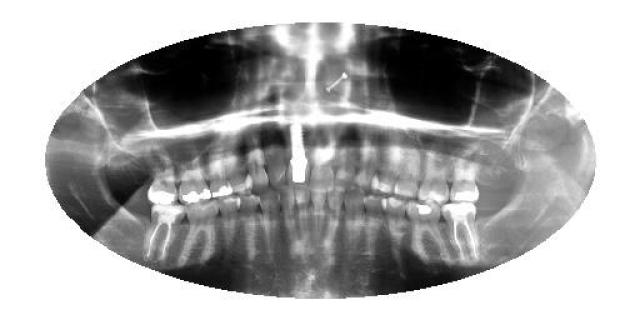Fillings: (408, 200, 448, 264), (178, 146, 212, 202), (449, 149, 480, 201), (148, 152, 178, 204), (210, 148, 232, 198)
Implant: (441, 202, 485, 266), (144, 202, 188, 262), (285, 122, 311, 188)
